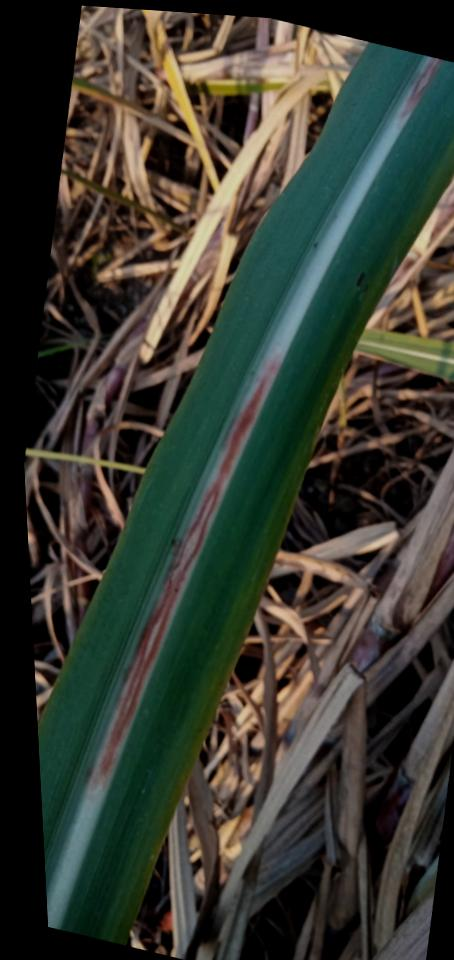RedRot: (84, 349, 282, 794), (401, 57, 444, 119)
